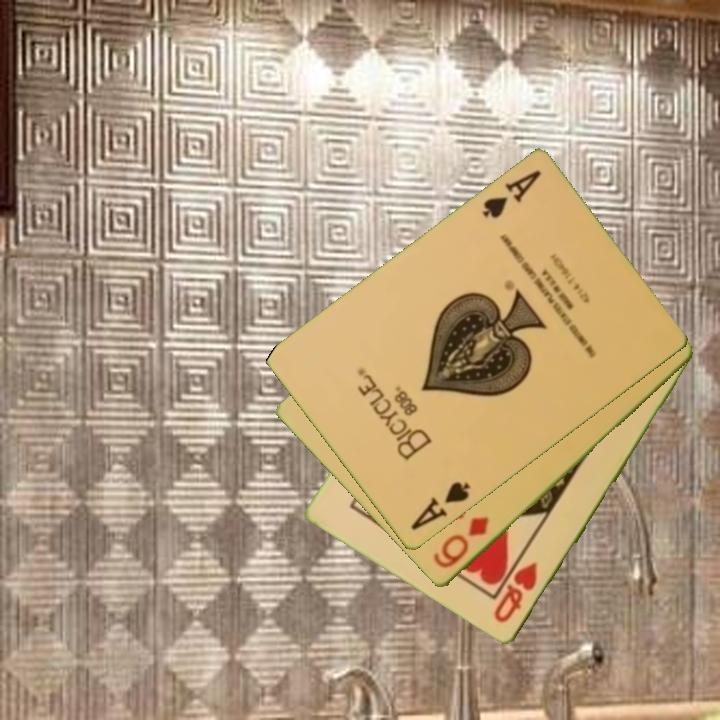6d: (429, 513, 492, 572)
As: (407, 478, 474, 534), (478, 167, 544, 222)
Qh: (490, 558, 541, 627)
